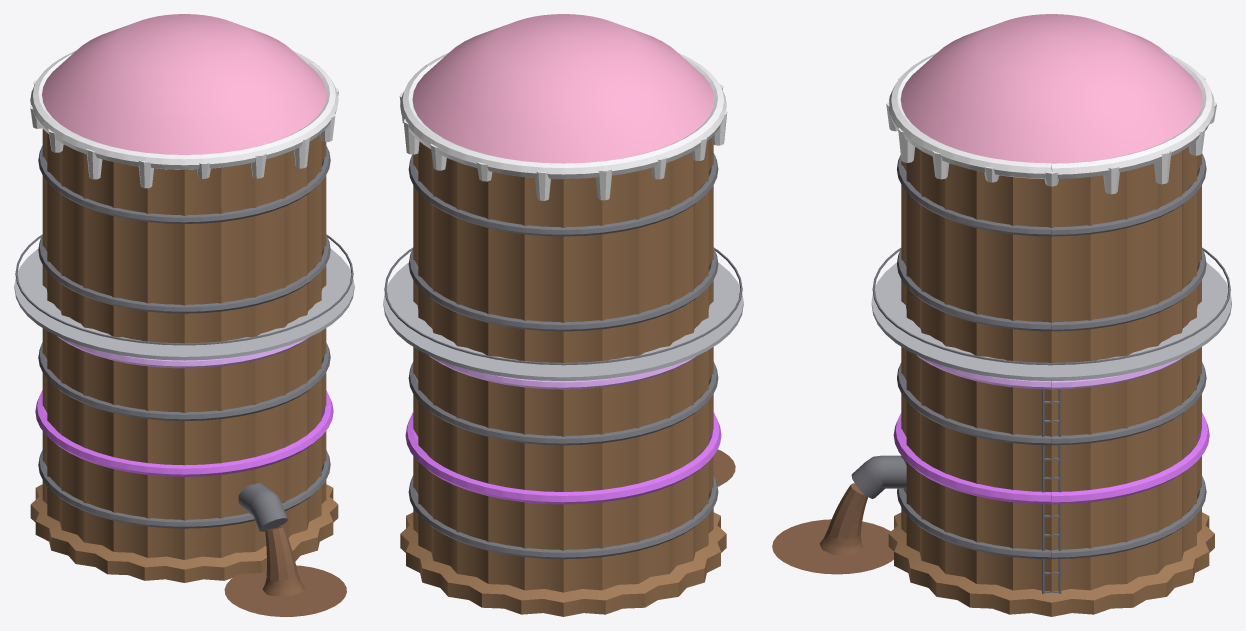
File: Landmark_ChocolateTank.fbx
3 views of the same model, side by side, from view 1: azimuth 30°, elevation 25°; view 2: azimuth 150°, elevation 25°; view 3: azimuth 270°, elevation 25° (orthographic). The views are drawn at different scales.
Parts seen in each view (by area): view 1: Landmark_ChocolateTank; view 2: Landmark_ChocolateTank; view 3: Landmark_ChocolateTank.
Part boxes in pixels (bbox=[...]): Landmark_ChocolateTank: bbox=[14, 14, 354, 616]; Landmark_ChocolateTank: bbox=[383, 14, 743, 616]; Landmark_ChocolateTank: bbox=[772, 14, 1231, 616].
Size of the model in its own units: 34.4 by 54.13 by 43.9.
